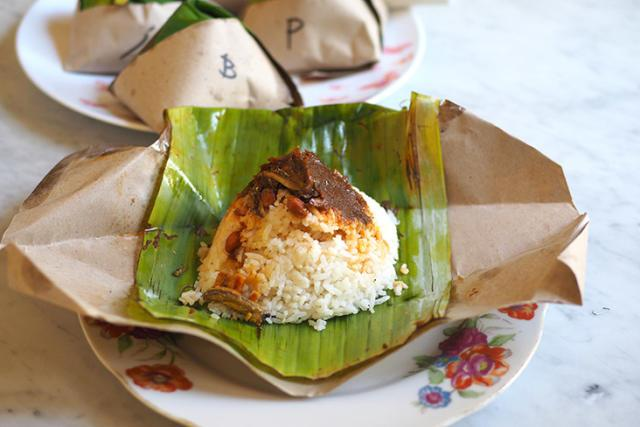Anchovies: (203, 288, 261, 325)
Peanuts: (288, 202, 308, 218), (261, 188, 277, 208), (227, 231, 241, 252)
Rice: (196, 158, 400, 321)
Sambal: (263, 147, 366, 215)
